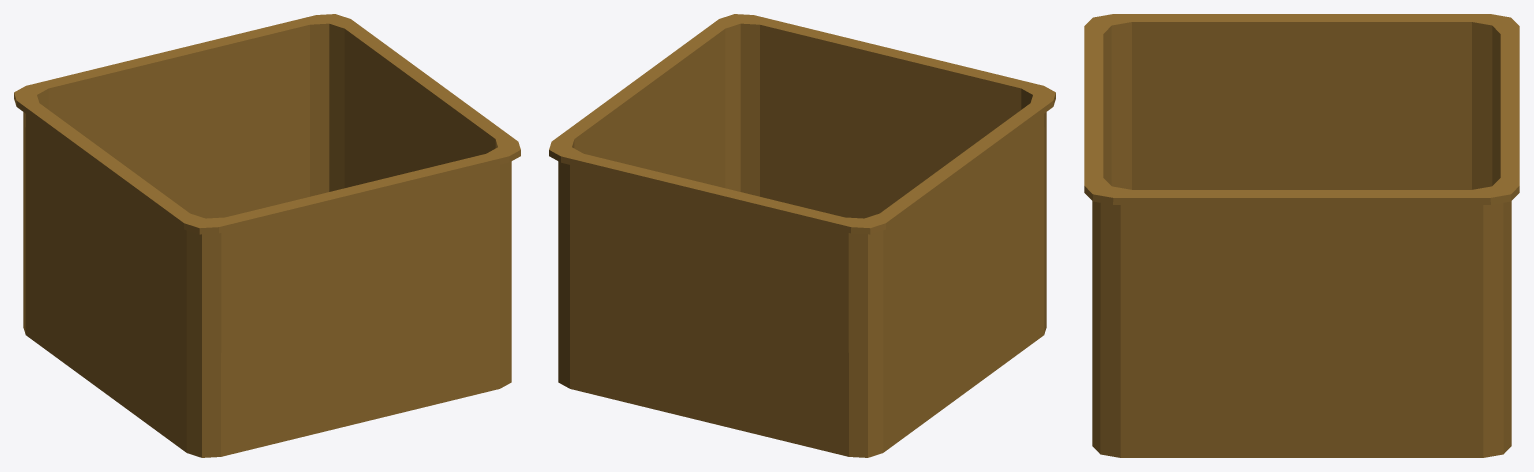
File: Syrup Bucket_TFSGJ_Spring2025.fbx
The picture shows the model from 3 angles, left to right: view 1: azimuth 30°, elevation 25°; view 2: azimuth 150°, elevation 25°; view 3: azimuth 270°, elevation 25°; orthographic projection. The views are drawn at different scales.
Parts seen in each view (by area): view 1: Syrup bucket; view 2: Syrup bucket; view 3: Syrup bucket.
Boxes of the visible parts, <box> form: Syrup bucket: <box>14,14,520,457</box>; Syrup bucket: <box>549,14,1055,457</box>; Syrup bucket: <box>1084,14,1519,457</box>.
Bounding box in the file's own units: 25.92 × 17.31 × 25.92.
